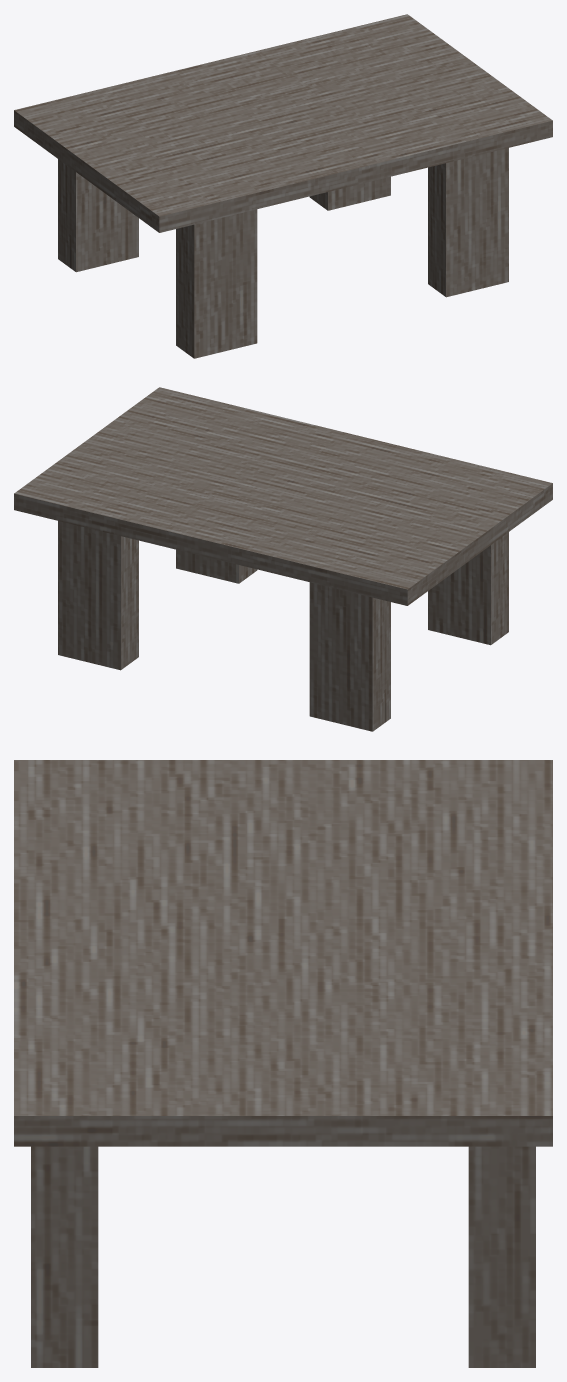
The model's file is table.glb.
The picture shows the model from 3 angles, top to bottom: view 1: azimuth 30°, elevation 25°; view 2: azimuth 150°, elevation 25°; view 3: azimuth 270°, elevation 25°; orthographic projection. The views are drawn at different scales.
Parts seen in each view (by area): view 1: TableTop, Leg.004, Leg.002, Leg.001, Leg.003; view 2: TableTop, Leg.001, Leg.003, Leg.004, Leg.002; view 3: TableTop, Leg.002, Leg.003.
Boxes of the visible parts, <box> form: TableTop: <box>14,14,552,232</box>; Leg.004: <box>176,209,257,358</box>; Leg.002: <box>428,148,508,297</box>; Leg.001: <box>58,159,138,272</box>; Leg.003: <box>309,176,390,210</box>; TableTop: <box>14,387,552,605</box>; Leg.001: <box>309,582,390,731</box>; Leg.003: <box>58,521,138,670</box>; Leg.004: <box>428,532,508,645</box>; Leg.002: <box>176,549,257,583</box>; TableTop: <box>14,760,552,1146</box>; Leg.002: <box>31,1146,98,1367</box>; Leg.003: <box>468,1146,535,1367</box>.
Size of the model in its own units: 5 by 1.88 by 3.2.
Materials: 1 (1 with a texture image).
